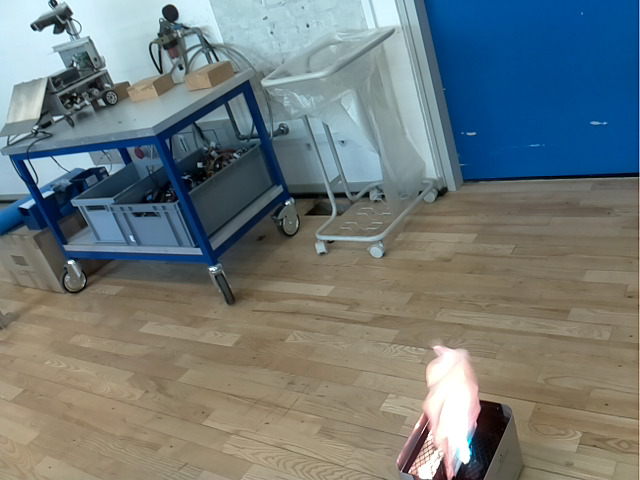fire: (422, 343, 481, 479)
